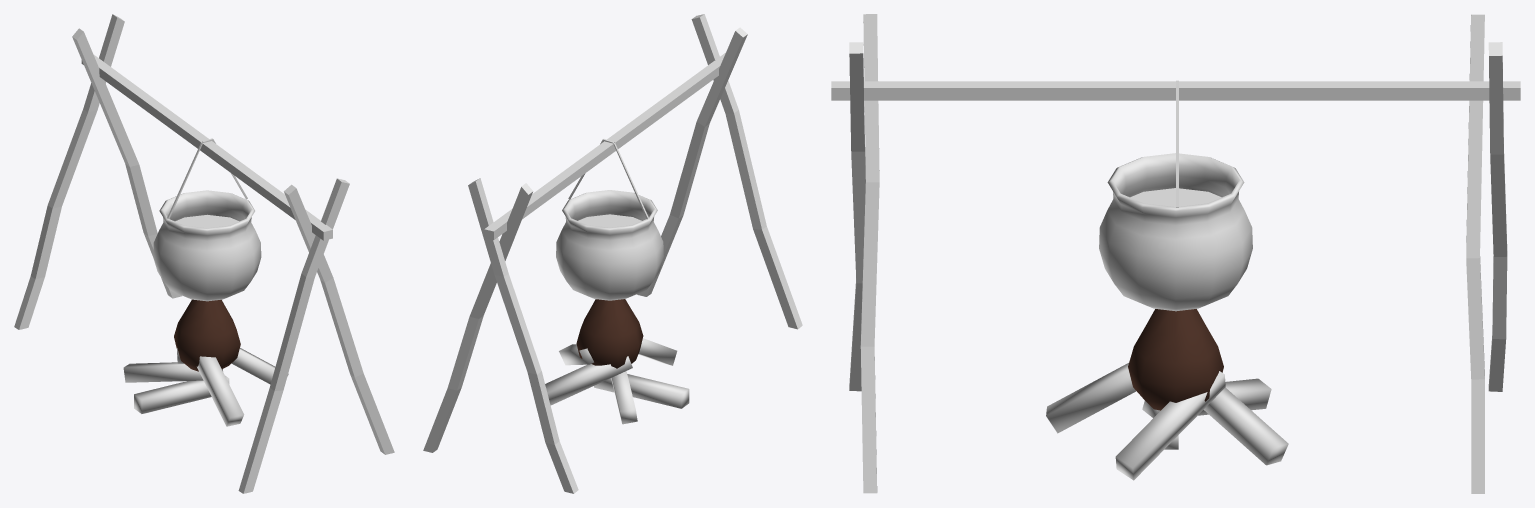
Rendered from Sm_food.fbx.
3 views of the same model, side by side, from view 1: azimuth 30°, elevation 25°; view 2: azimuth 150°, elevation 25°; view 3: azimuth 270°, elevation 25° (orthographic). The views are drawn at different scales.
Parts seen in each view (by area): view 1: Plane.001; view 2: Plane.001; view 3: Plane.001.
Part boxes in pixels (x1,y1,x2,y2): Plane.001: (14, 14, 394, 493); Plane.001: (423, 14, 802, 493); Plane.001: (831, 14, 1520, 493).
Bounding box in the file's own units: 74.96 × 132 × 200.
